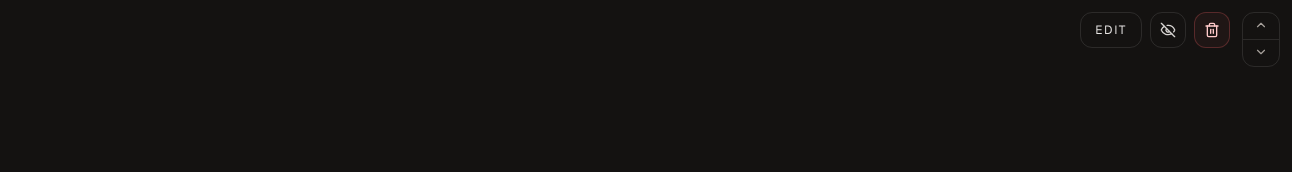
Test: announcement row controls › delete confirmation › does not delete on the first press
This screenshot has width=1292, height=172.
Click the button named "Delete announcement". click: (1212, 30)
box: [1194, 12, 1230, 48]
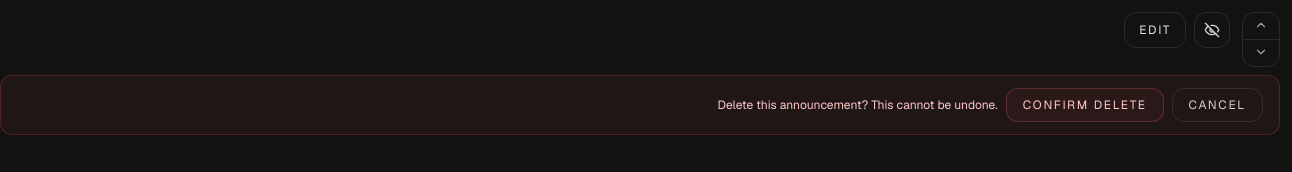
Expected: the text "Delete this announcement? This cannot be undone." is shown, [717, 95, 998, 115]
